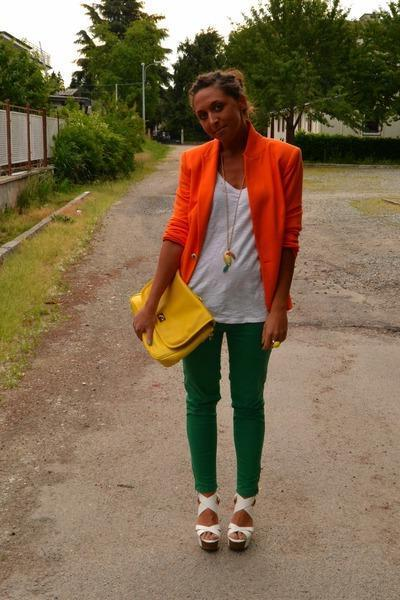jacket: (147, 128, 311, 318)
short sleeve shirt: (179, 171, 271, 328)
trousers: (174, 290, 275, 497)
